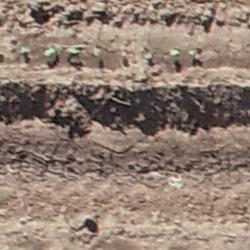cotton: (46, 48, 58, 56), (171, 50, 180, 56), (143, 52, 152, 58), (94, 49, 101, 56), (72, 47, 79, 53), (21, 48, 28, 53), (190, 51, 196, 56)
